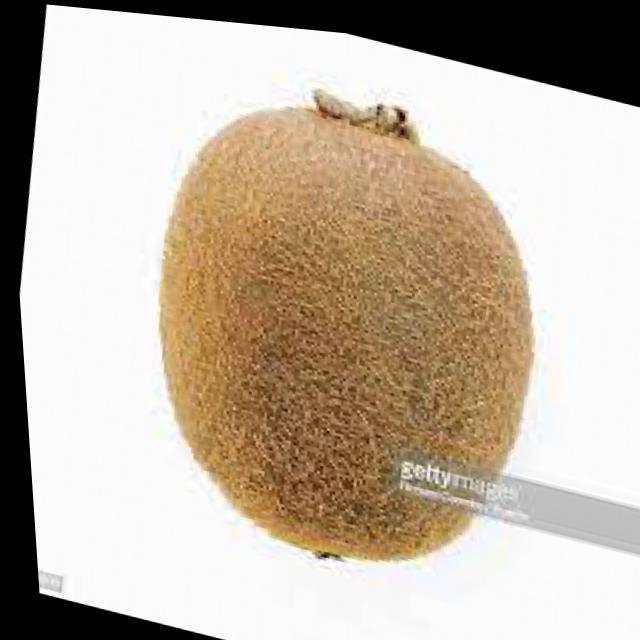kiwi: (106, 48, 577, 601)
